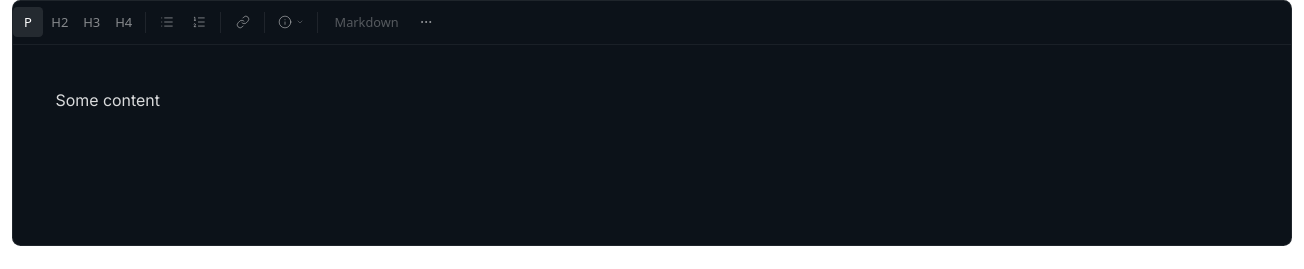
it: RichEditor › switches to markdown mode and shows textarea
Click the button "Markdown". click: (367,22)
box: [324, 7, 409, 37]
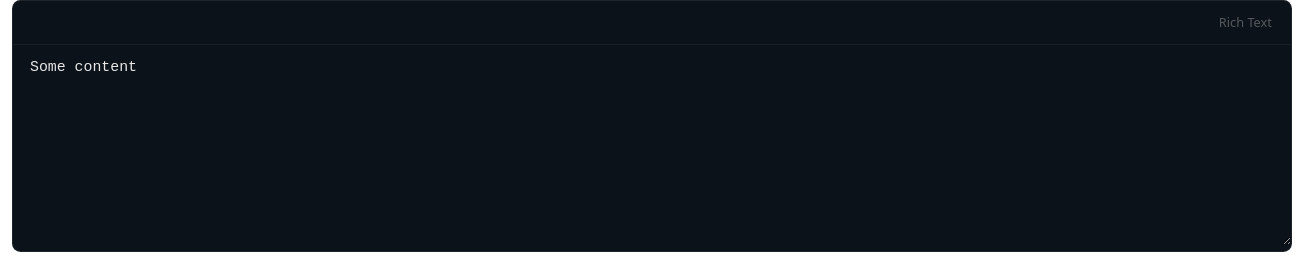
Expected: the text box is shown
Expected: the text box holds "Some content"
